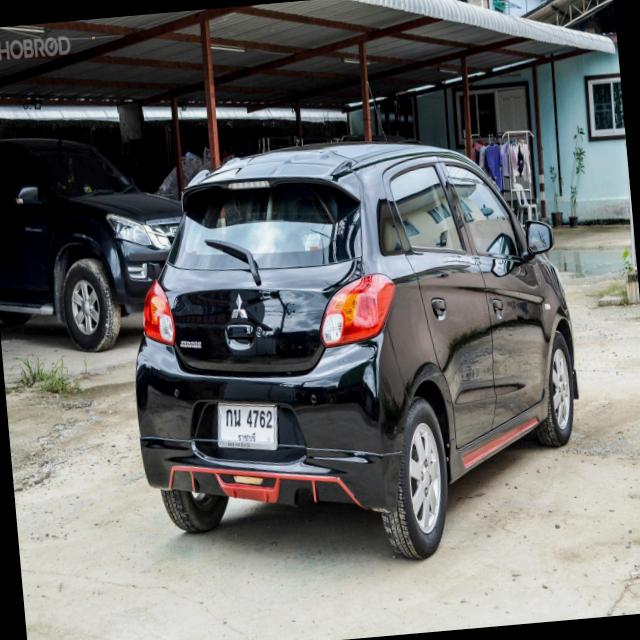license_plate: (214, 394, 282, 457)
